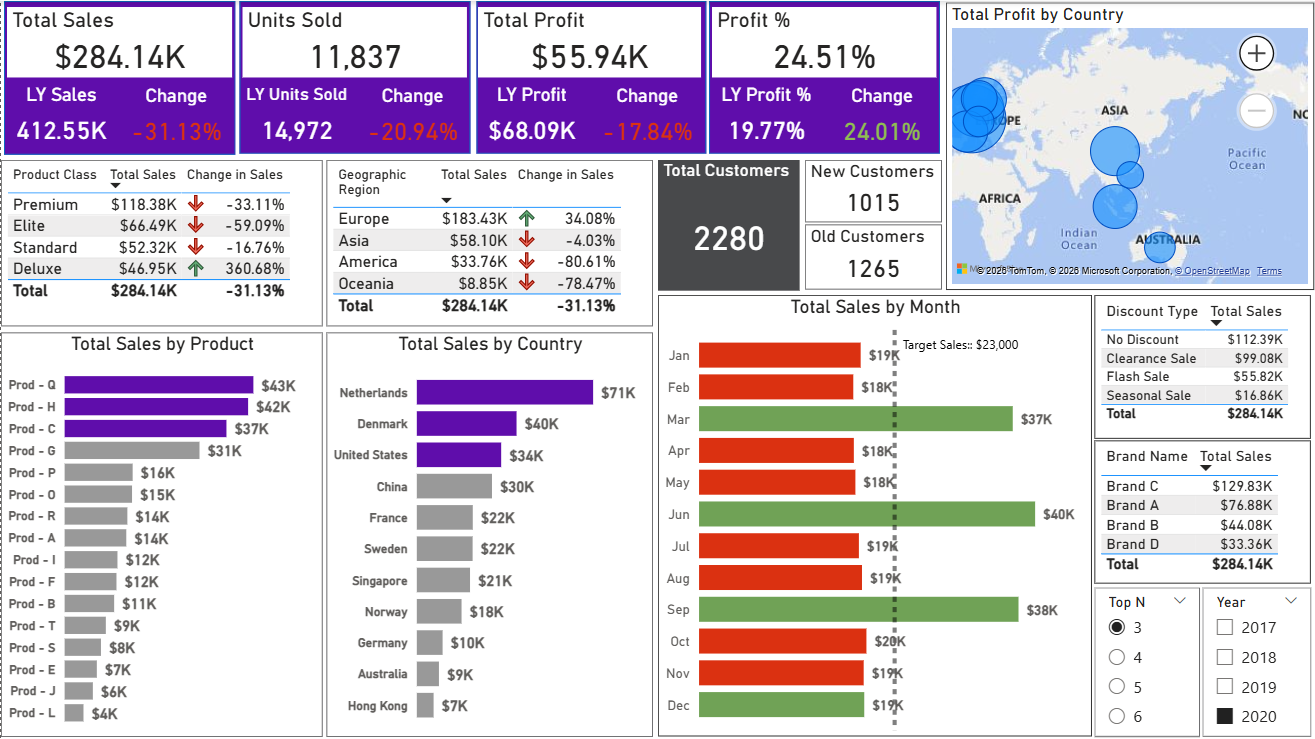

Layout of this report page (visuals, bound fields, positions):
{"tool":"powerbi","page":{"name":"Sales Overview","canvas":[1280,720],"ordinal":0},"visuals":[{"type":"shape","box":[2.5,0,225.6,149.8],"z":0,"group":"g1"},{"type":"shape","box":[232.7,0,225,148.9],"z":0,"group":"g2"},{"type":"shape","box":[463.4,0,223.9,148.9],"z":0,"group":"g3"},{"type":"shape","box":[690,0,225,148.9],"z":0,"group":"g4"},{"type":"slicer","fields":{"Values":["Calendar.Year"]},"box":[1170.5,570.9,106,145.4],"z":0},{"type":"group","id":"g1","title":"Group 1","box":[2.5,0,225.6,149.9],"z":1000},{"type":"card","title":"Total Sales","fields":{"Values":["Sales Data.Total Sales"]},"box":[5.8,5.3,219.1,68.9],"z":1000,"group":"g1"},{"type":"card","title":"Units Sold","fields":{"Values":["Sales Data.Total Quantity"]},"box":[236,5.3,218.5,68.5],"z":1000,"group":"g2"},{"type":"card","title":"Total Profit","fields":{"Values":["Sales Data.Total Profit"]},"box":[465.6,5.3,217.3,68.5],"z":1000,"group":"g3"},{"type":"card","title":"Profit %","fields":{"Values":["Sales Data.Profit %"]},"box":[693.3,5.3,218.5,68.5],"z":1000,"group":"g4"},{"type":"group","id":"g2","title":"Group 1","box":[232.7,0,225,149.9],"z":2000},{"type":"card","title":"LY Units Sold","fields":{"Values":["Sales Data.LY Quantity"]},"box":[232.7,80.4,111.4,68.5],"z":2000,"group":"g2"},{"type":"card","title":"LY Profit","fields":{"Values":["Sales Data.LY Profit"]},"box":[462.3,80.4,110.9,68.5],"z":2000,"group":"g3"},{"type":"card","title":"LY Profit %","fields":{"Values":["Sales Data.LY Profit %"]},"box":[690,80.4,111.4,68.5],"z":2000,"group":"g4"},{"type":"card","title":"LY Sales","fields":{"Values":["Sales Data.LY Sales"]},"box":[2.5,80.9,111.7,68.9],"z":2000,"group":"g1"},{"type":"group","id":"g3","title":"Group 1","box":[462.3,0,225,149.9],"z":3000},{"type":"card","title":"Change ","fields":{"Values":["Sales Data.Change in Sales"]},"box":[114.6,81.8,110.5,68.1],"z":3000,"group":"g1"},{"type":"card","title":"Change","fields":{"Values":["Sales Data.Change in Quantity"]},"box":[344.8,81.8,112.1,68.1],"z":3000,"group":"g2"},{"type":"card","title":"Change","fields":{"Values":["Sales Data.Change in Profit"]},"box":[572.8,81.8,113.6,68.1],"z":3000,"group":"g3"},{"type":"card","title":"Change","fields":{"Values":["Sales Data.Change in Profit %"]},"box":[802.1,81.8,112.1,68.1],"z":3000,"group":"g4"},{"type":"group","id":"g4","title":"Group 1","box":[690,0,225,149.9],"z":4000},{"type":"card","title":"Total Customers","fields":{"Values":["Sales Data.Measure"]},"box":[640.5,154.4,137.8,127.2],"z":5000},{"type":"card","title":"Old Customers","fields":{"Values":["Sales Data.Old Customers"]},"box":[782.8,218,133.3,63.6],"z":6000},{"type":"card","title":"New Customers","fields":{"Values":["Sales Data.New Customers"]},"box":[782.8,154.4,133.3,60.6],"z":7000},{"type":"map","fields":{"Category":["Location Details.Country"],"Size":["Sales Data.Total Profit"]},"box":[920.6,1.5,358.9,280.1],"z":8000},{"type":"slicer","fields":{"Values":["Top N.Top N"]},"box":[1066,570.9,103,145.4],"z":9000},{"type":"clusteredBarChart","title":"Total Sales by Product","fields":{"Category":["Products Details.Product Name"],"Y":["Sales Data.Total Sales"]},"box":[0,322.5,313.4,393.7],"z":10000},{"type":"clusteredBarChart","fields":{"Y":["Sales Data.Total Sales"],"Category":["Location Details.Country"]},"box":[316.5,322.5,318,393.7],"z":11000},{"type":"barChart","fields":{"Category":["Calendar.Month"],"Y":["Sales Data.Total Sales"]},"box":[640.5,286.2,422.5,430],"z":12000},{"type":"tableEx","fields":{"Values":["Products Details.Product Class","Sales Data.Total Sales","Sales Data.Change in Sales"]},"box":[0,154.4,313.4,162],"z":13000},{"type":"tableEx","fields":{"Values":["Location Details.Geographic Region","Sales Data.Total Sales","Sales Data.Change in Sales"]},"box":[316.5,154.4,318,162],"z":14000},{"type":"tableEx","fields":{"Values":["Discount Details.Discount Type","Sales Data.Total Sales"]},"box":[1066,286.2,210.5,140],"z":15000},{"type":"tableEx","fields":{"Values":["Products Details.Brand Name","Sales Data.Total Sales"]},"box":[1066,428.5,210.5,139.3],"z":16000}]}

Visuals, with their boxes in screenshot pixels (x1, y1, x2, y2), scaled from the page's 1280x720 canvas onto the 1315x739 screenshot:
shape: BBox(3, 0, 234, 154)
shape: BBox(239, 0, 470, 153)
shape: BBox(476, 0, 706, 153)
shape: BBox(709, 0, 940, 153)
slicer - Calendar.Year: BBox(1203, 586, 1311, 735)
"Group 1" group: BBox(3, 0, 234, 154)
"Total Sales" card: BBox(6, 5, 231, 76)
"Units Sold" card: BBox(242, 5, 467, 76)
"Total Profit" card: BBox(478, 5, 702, 76)
"Profit %" card: BBox(712, 5, 937, 76)
"Group 1" group: BBox(239, 0, 470, 154)
"LY Units Sold" card: BBox(239, 83, 354, 153)
"LY Profit" card: BBox(475, 83, 589, 153)
"LY Profit %" card: BBox(709, 83, 823, 153)
"LY Sales" card: BBox(3, 83, 117, 154)
"Group 1" group: BBox(475, 0, 706, 154)
"Change " card: BBox(118, 84, 231, 154)
"Change" card: BBox(354, 84, 469, 154)
"Change" card: BBox(588, 84, 705, 154)
"Change" card: BBox(824, 84, 939, 154)
"Group 1" group: BBox(709, 0, 940, 154)
"Total Customers" card: BBox(658, 158, 800, 289)
"Old Customers" card: BBox(804, 224, 941, 289)
"New Customers" card: BBox(804, 158, 941, 221)
map - Location Details.Country x Sales Data.Total Profit: BBox(946, 2, 1314, 289)
slicer - Top N.Top N: BBox(1095, 586, 1201, 735)
"Total Sales by Product" clusteredBarChart: BBox(0, 331, 322, 735)
clusteredBarChart - Sales Data.Total Sales x Location Details.Country: BBox(325, 331, 652, 735)
barChart - Calendar.Month x Sales Data.Total Sales: BBox(658, 294, 1092, 735)
tableEx - Products Details.Product Class x Sales Data.Total Sales: BBox(0, 158, 322, 325)
tableEx - Location Details.Geographic Region x Sales Data.Total Sales: BBox(325, 158, 652, 325)
tableEx - Discount Details.Discount Type x Sales Data.Total Sales: BBox(1095, 294, 1311, 437)
tableEx - Products Details.Brand Name x Sales Data.Total Sales: BBox(1095, 440, 1311, 583)
